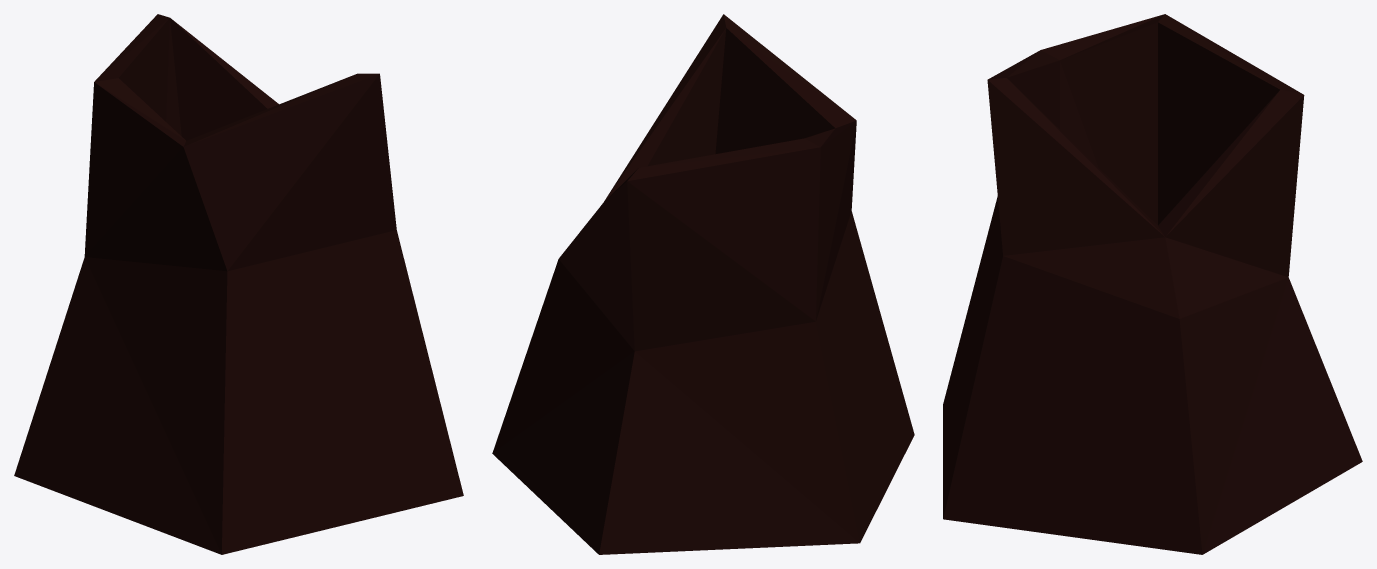
Rendered from Trunk_02.glb.
3 renders of one model, left to right at view 1: azimuth 30°, elevation 25°; view 2: azimuth 150°, elevation 25°; view 3: azimuth 270°, elevation 25°, orthographic. The views are drawn at different scales.
Visible parts, largest first — view 1: Asset3DLoader.sceneRoot; view 2: Asset3DLoader.sceneRoot; view 3: Asset3DLoader.sceneRoot.
Part boxes in pixels (x1,y1,x2,y2): Asset3DLoader.sceneRoot: [14, 14, 463, 554]; Asset3DLoader.sceneRoot: [492, 14, 914, 554]; Asset3DLoader.sceneRoot: [943, 14, 1362, 554].
Bounding box in the file's own units: 1.27 × 1.31 × 1.21.
